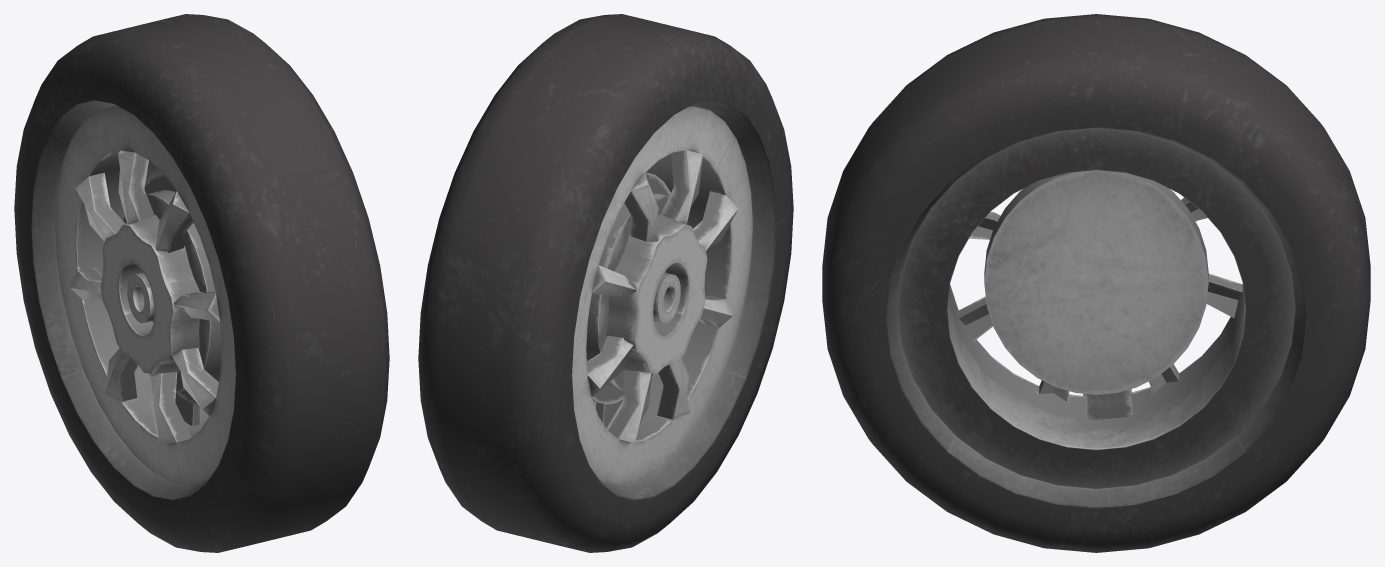
The model's file is TiresRBack.fbx.
The picture shows the model from 3 angles, left to right: view 1: azimuth 30°, elevation 25°; view 2: azimuth 150°, elevation 25°; view 3: azimuth 270°, elevation 25°; orthographic projection. The views are drawn at different scales.
Visible parts, largest first — view 1: TiresRBack; view 2: TiresRBack; view 3: TiresRBack.
Boxes of the visible parts, x1,y1,x2,y2 form: TiresRBack: (14, 14, 389, 552); TiresRBack: (418, 14, 793, 552); TiresRBack: (822, 14, 1370, 552).
Bounding box in the file's own units: 17.9 × 60.55 × 60.55.
